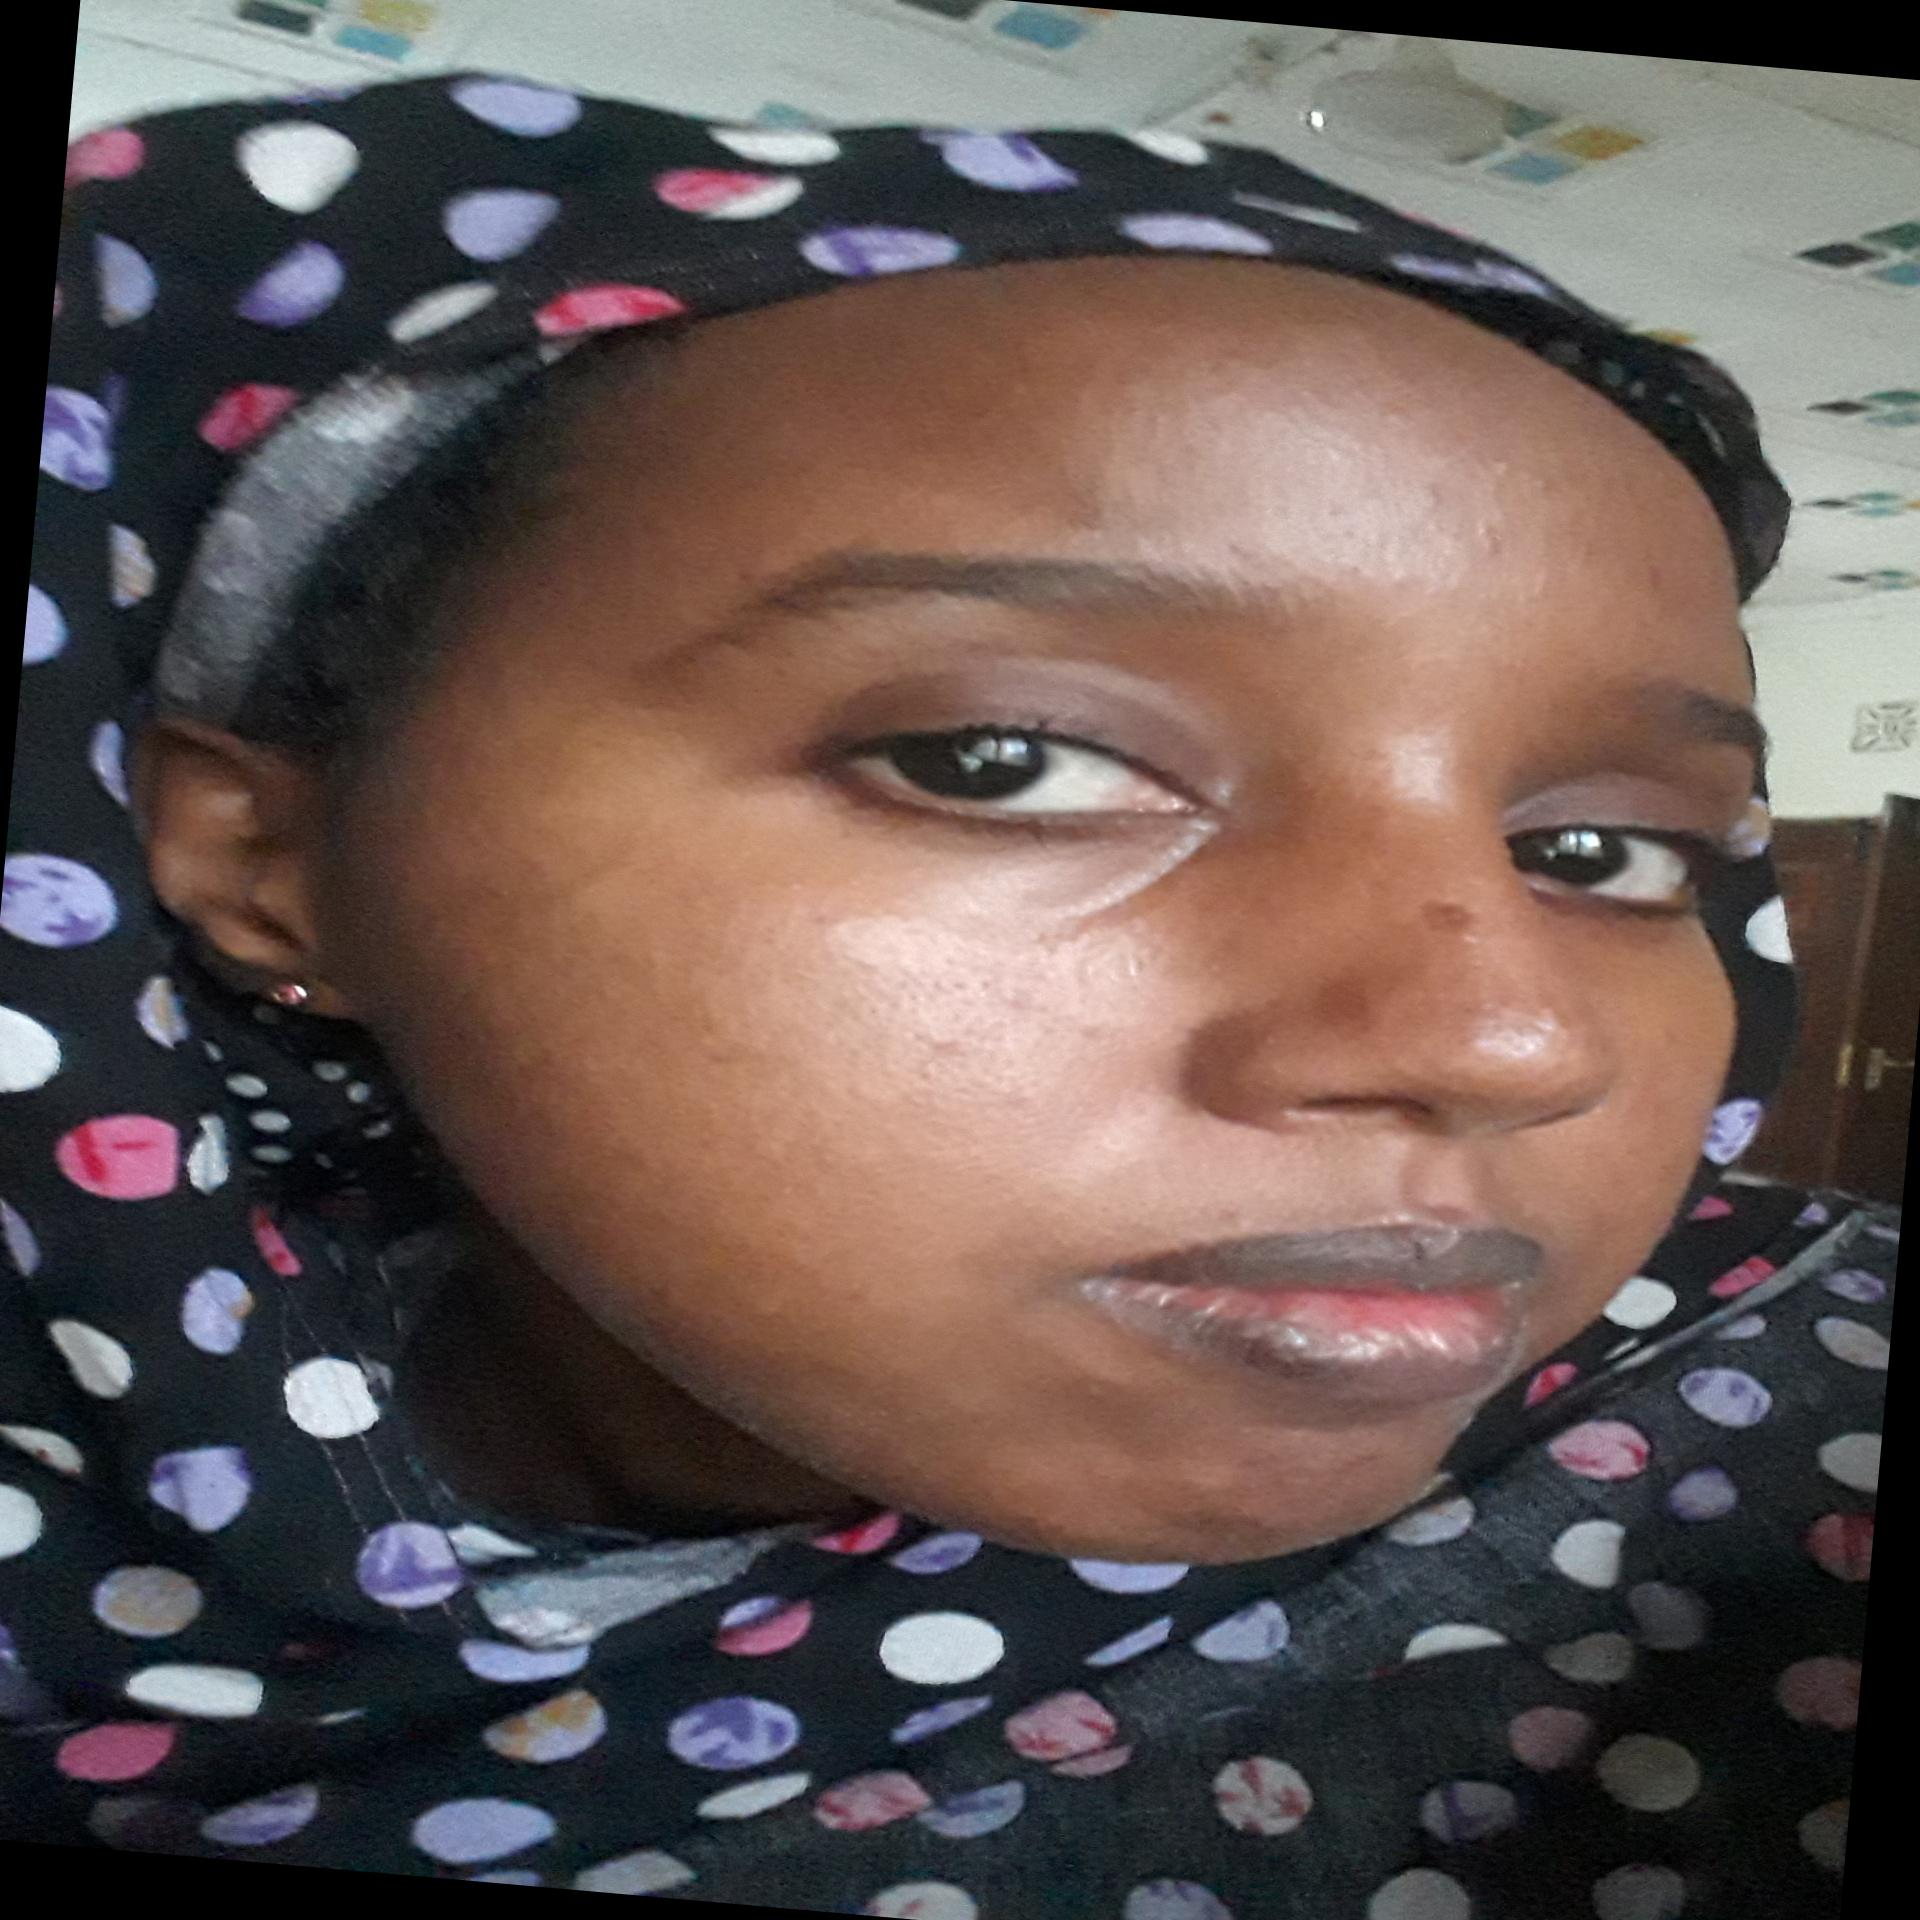Acne: (1393, 888, 1491, 949), (1475, 454, 1565, 501), (1459, 510, 1524, 566), (1050, 1373, 1131, 1410), (1412, 1196, 1486, 1233), (1363, 397, 1428, 433), (1206, 1203, 1259, 1238)
Englarged Pores: (818, 939, 1104, 1139)
